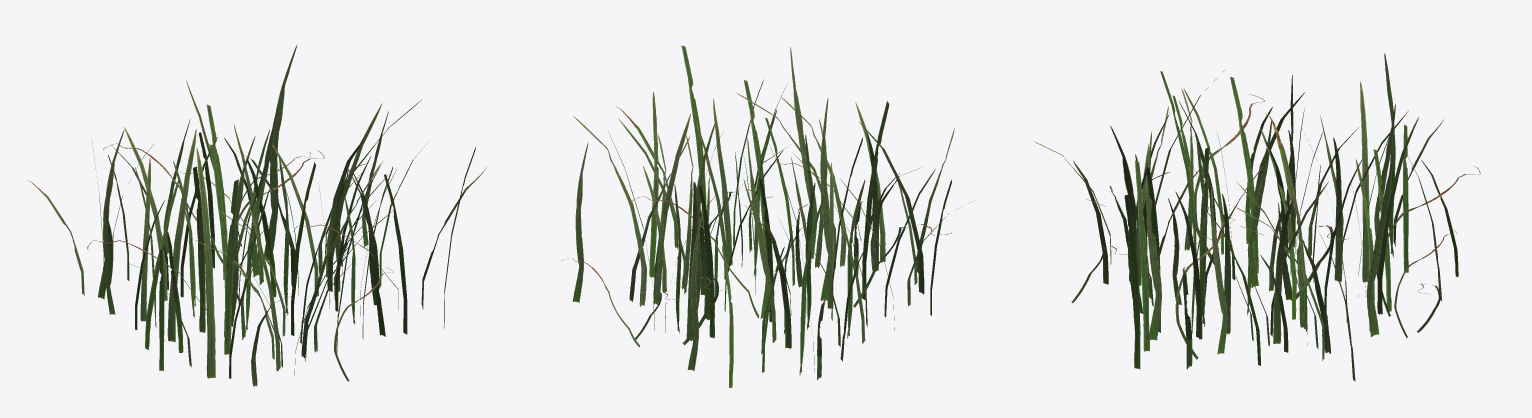
File: herbe.fbx
The picture shows the model from 3 angles, left to right: view 1: azimuth 30°, elevation 25°; view 2: azimuth 150°, elevation 25°; view 3: azimuth 270°, elevation 25°; orthographic projection. The views are drawn at different scales.
Visible parts, largest first — view 1: heightgrass; view 2: heightgrass; view 3: heightgrass.
Boxes of the visible parts, <box> form: heightgrass: <box>27,44,486,386</box>; heightgrass: <box>561,45,974,387</box>; heightgrass: <box>1033,53,1480,381</box>.
Bounding box in the file's own units: 2.18 × 1.23 × 2.16.
